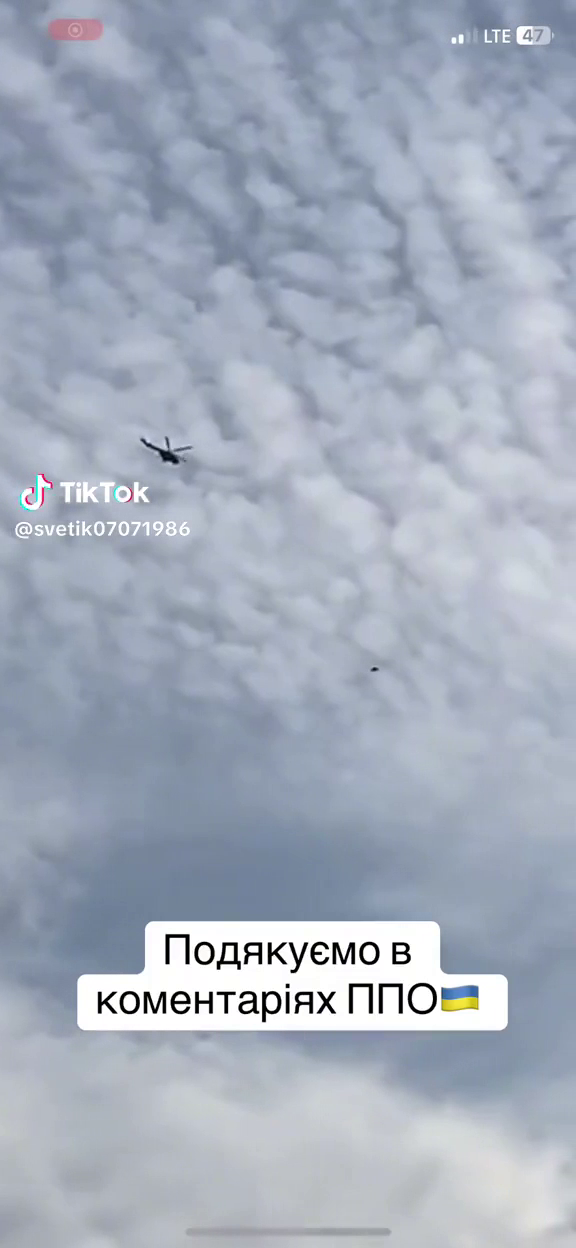not_drone: (138, 430, 196, 470)
